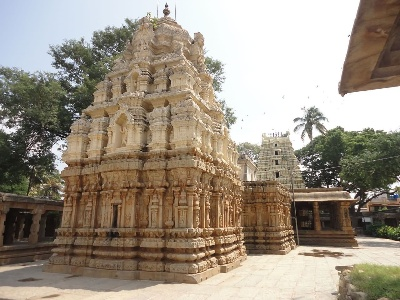gopuram: (74, 21, 245, 228)
mandapa: (280, 183, 365, 239)
